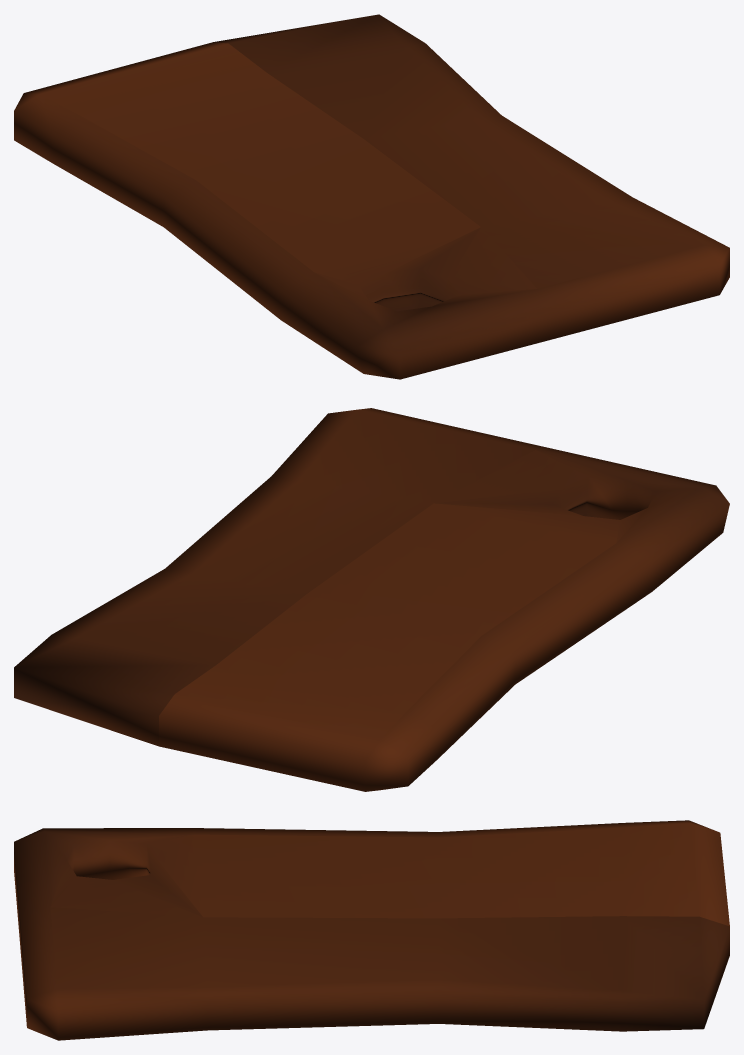
The model's file is CuttingBoard.fbx.
3 views of the same model, one above another, from view 1: azimuth 30°, elevation 25°; view 2: azimuth 150°, elevation 25°; view 3: azimuth 270°, elevation 25° (orthographic). The views are drawn at different scales.
Visible parts, largest first — view 1: CuttingBoard_Model; view 2: CuttingBoard_Model; view 3: CuttingBoard_Model.
Part boxes in pixels (x1,y1,x2,y2): CuttingBoard_Model: (14,14,729,379); CuttingBoard_Model: (14,408,729,791); CuttingBoard_Model: (14,820,729,1040).
Bounding box in the file's own units: 596 × 70.29 × 942.
